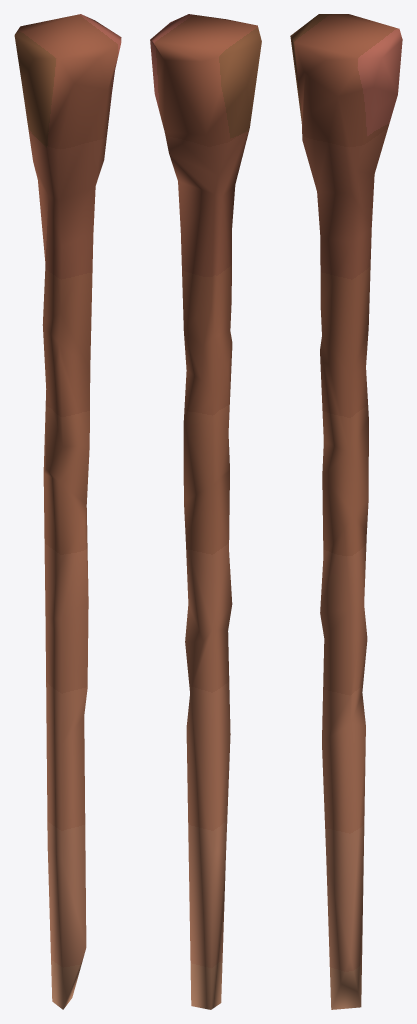
Rendered from DC_Torch1.fbx.
The picture shows the model from 3 angles, left to right: view 1: azimuth 30°, elevation 25°; view 2: azimuth 150°, elevation 25°; view 3: azimuth 330°, elevation 25°; orthographic projection.
Parts seen in each view (by area): view 1: Torch1; view 2: Torch1; view 3: Torch1.
Boxes of the visible parts, x1=… form: Torch1: x1=14, y1=14, x2=121, y2=1009; Torch1: x1=150, y1=14, x2=261, y2=1009; Torch1: x1=290, y1=14, x2=402, y2=1009.
Bounding box in the file's own units: 0.1277 × 1.32 × 0.1283.
Materials: 1 (1 with a texture image).
